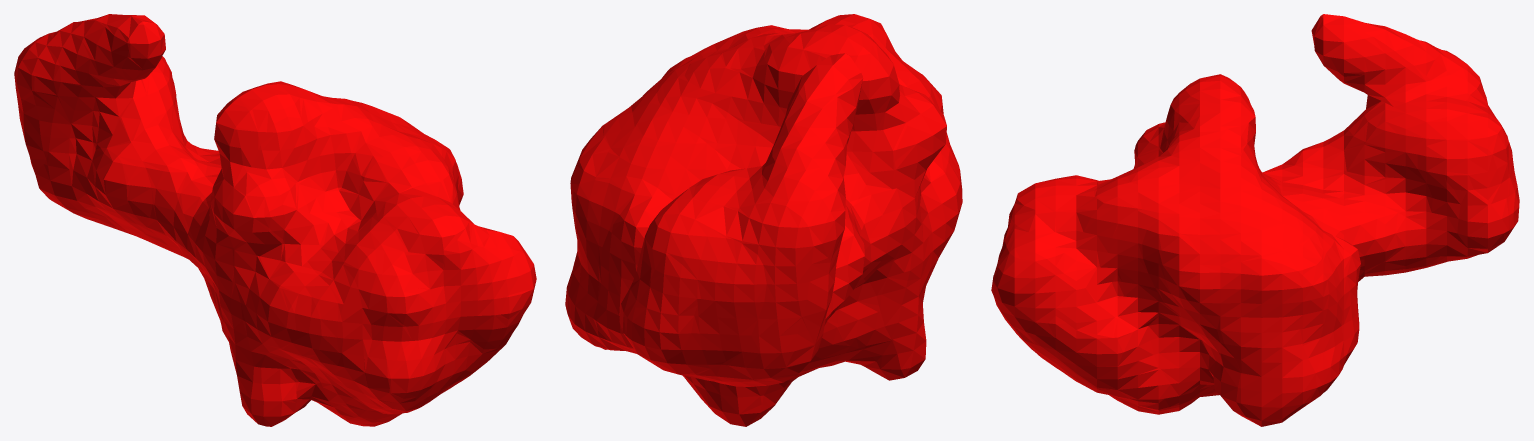
The model's file is hslO_coarse.dae.
3 views of the same model, side by side, from view 1: azimuth 30°, elevation 25°; view 2: azimuth 150°, elevation 25°; view 3: azimuth 270°, elevation 25° (orthographic). The views are drawn at different scales.
Parts seen in each view (by area): view 1: hslO; view 2: hslO; view 3: hslO.
Part boxes in pixels (box(x1,y1,x2,y2)): hslO: box(14, 14, 536, 426); hslO: box(565, 14, 962, 426); hslO: box(991, 14, 1519, 426).
Bounding box in the file's own units: 48.98 × 54.94 × 77.15.
